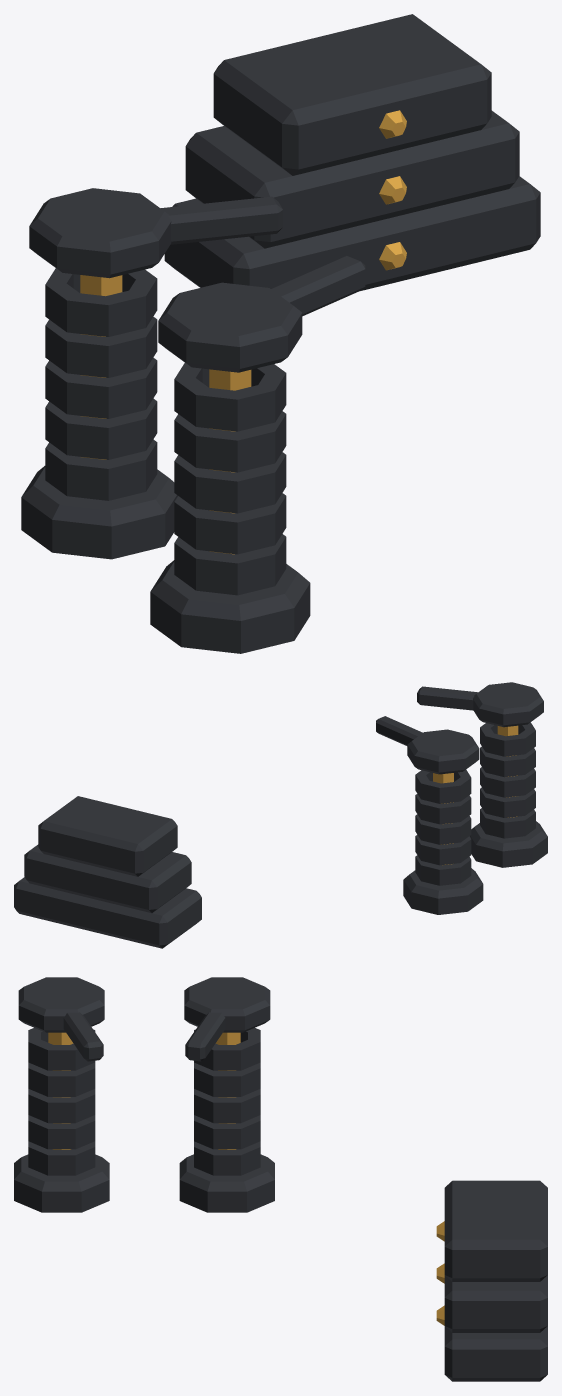
The model's file is CannonDressB2.obj.
The picture shows the model from 3 angles, top to bottom: view 1: azimuth 30°, elevation 25°; view 2: azimuth 150°, elevation 25°; view 3: azimuth 270°, elevation 25°; orthographic projection. The views are drawn at different scales.
Visible parts, largest first — view 1: CannonDressB2; view 2: CannonDressB2; view 3: CannonDressB2.
Part boxes in pixels (x1,y1,x2,y2): CannonDressB2: [21, 14, 540, 653]; CannonDressB2: [14, 682, 547, 948]; CannonDressB2: [14, 977, 547, 1381].
Size of the model in its own units: 0.9724 by 0.425 by 1.03.
